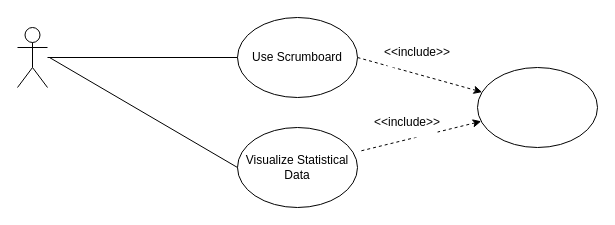
This 615x225 diagram has some shape labels left out. Here are the shapes that lost their labels. From the top down, the centre of each, then its label:
At point (32, 57): "User".
At point (537, 107): "Authenticate".
